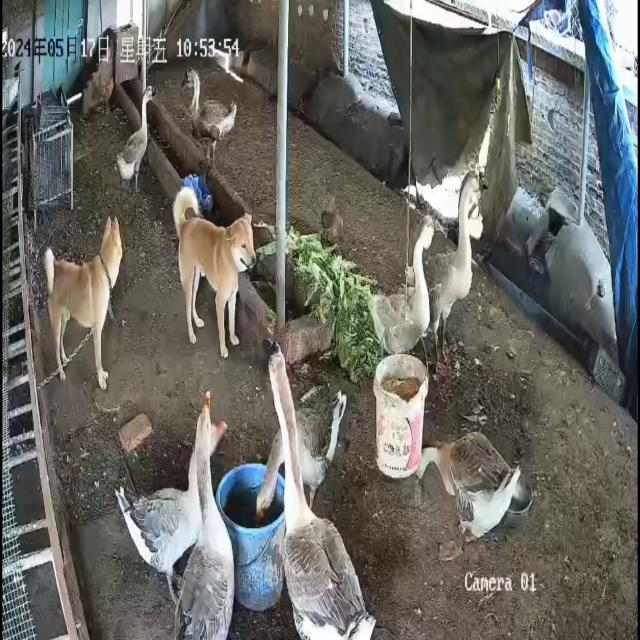dog: (173, 186, 257, 359), (44, 215, 124, 392)
